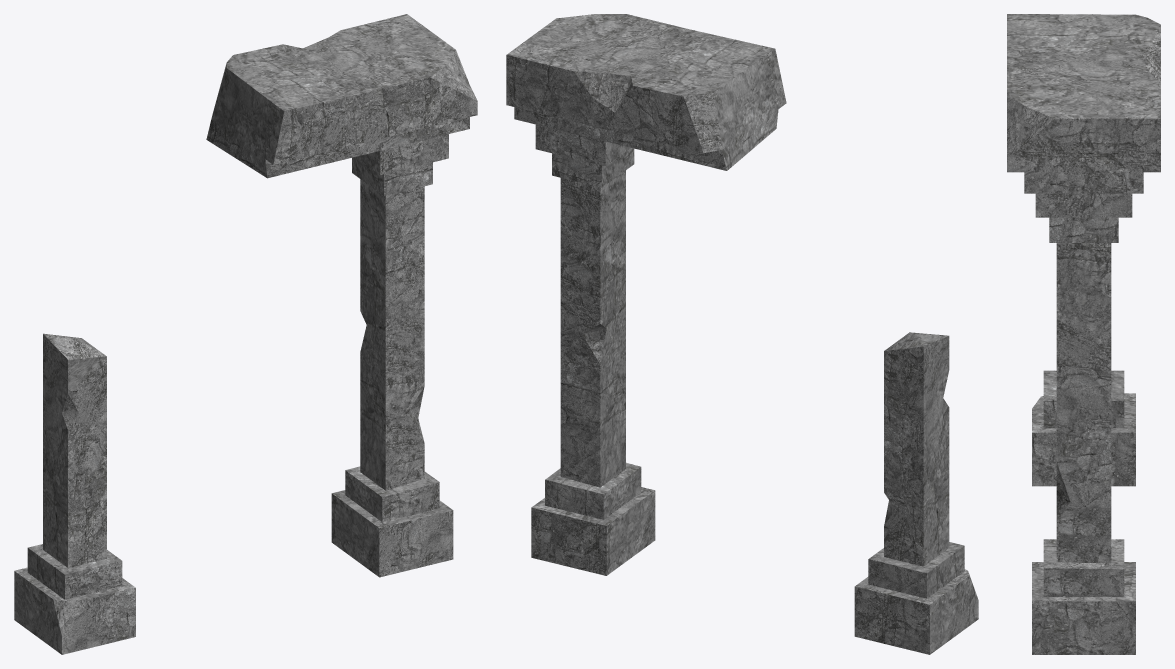
Rendered from materials_3_gate_1.fbx.
3 views of the same model, side by side, from view 1: azimuth 30°, elevation 25°; view 2: azimuth 150°, elevation 25°; view 3: azimuth 270°, elevation 25° (orthographic). The views are drawn at different scales.
Visible parts, largest first — view 1: materials_3_gate_1; view 2: materials_3_gate_1; view 3: materials_3_gate_1.
Part boxes in pixels (x1,y1,x2,y2): materials_3_gate_1: (14, 14, 477, 654); materials_3_gate_1: (506, 14, 978, 654); materials_3_gate_1: (1007, 14, 1160, 654).
Bounding box in the file's own units: 253 × 300 × 76.69.
